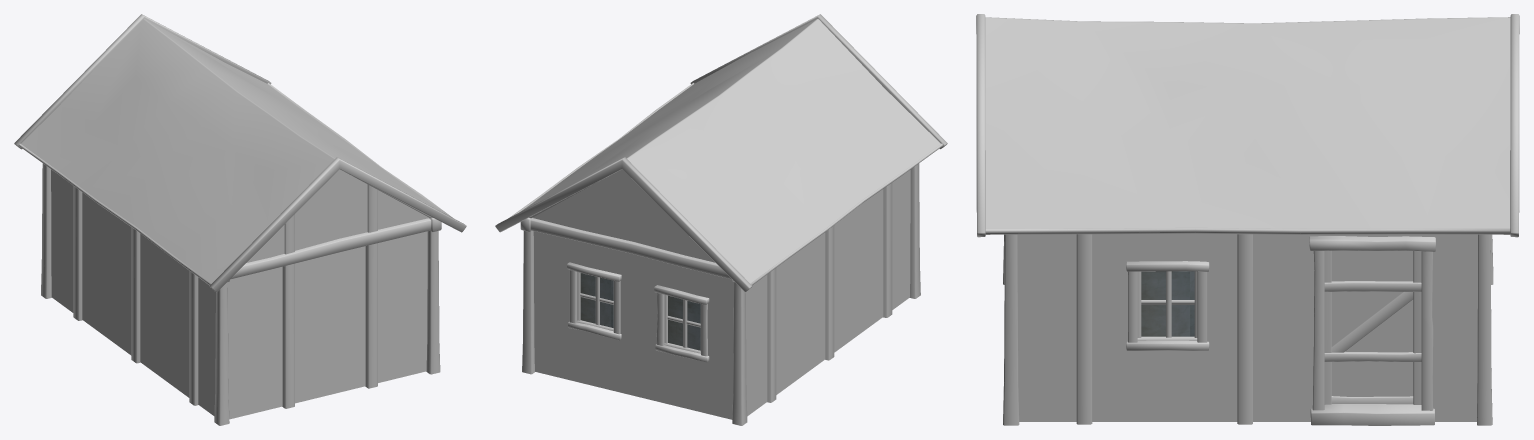
File: House_2.FBX
3 views of the same model, side by side, from view 1: azimuth 30°, elevation 25°; view 2: azimuth 150°, elevation 25°; view 3: azimuth 270°, elevation 25° (orthographic). The views are drawn at different scales.
Visible parts, largest first — view 1: Mesh; view 2: Mesh; view 3: Mesh.
Boxes of the visible parts, x1,y1,x2,y2 form: Mesh: (14, 14, 466, 425); Mesh: (495, 14, 947, 425); Mesh: (976, 14, 1519, 425).
Bounding box in the file's own units: 511 × 691 × 474.
